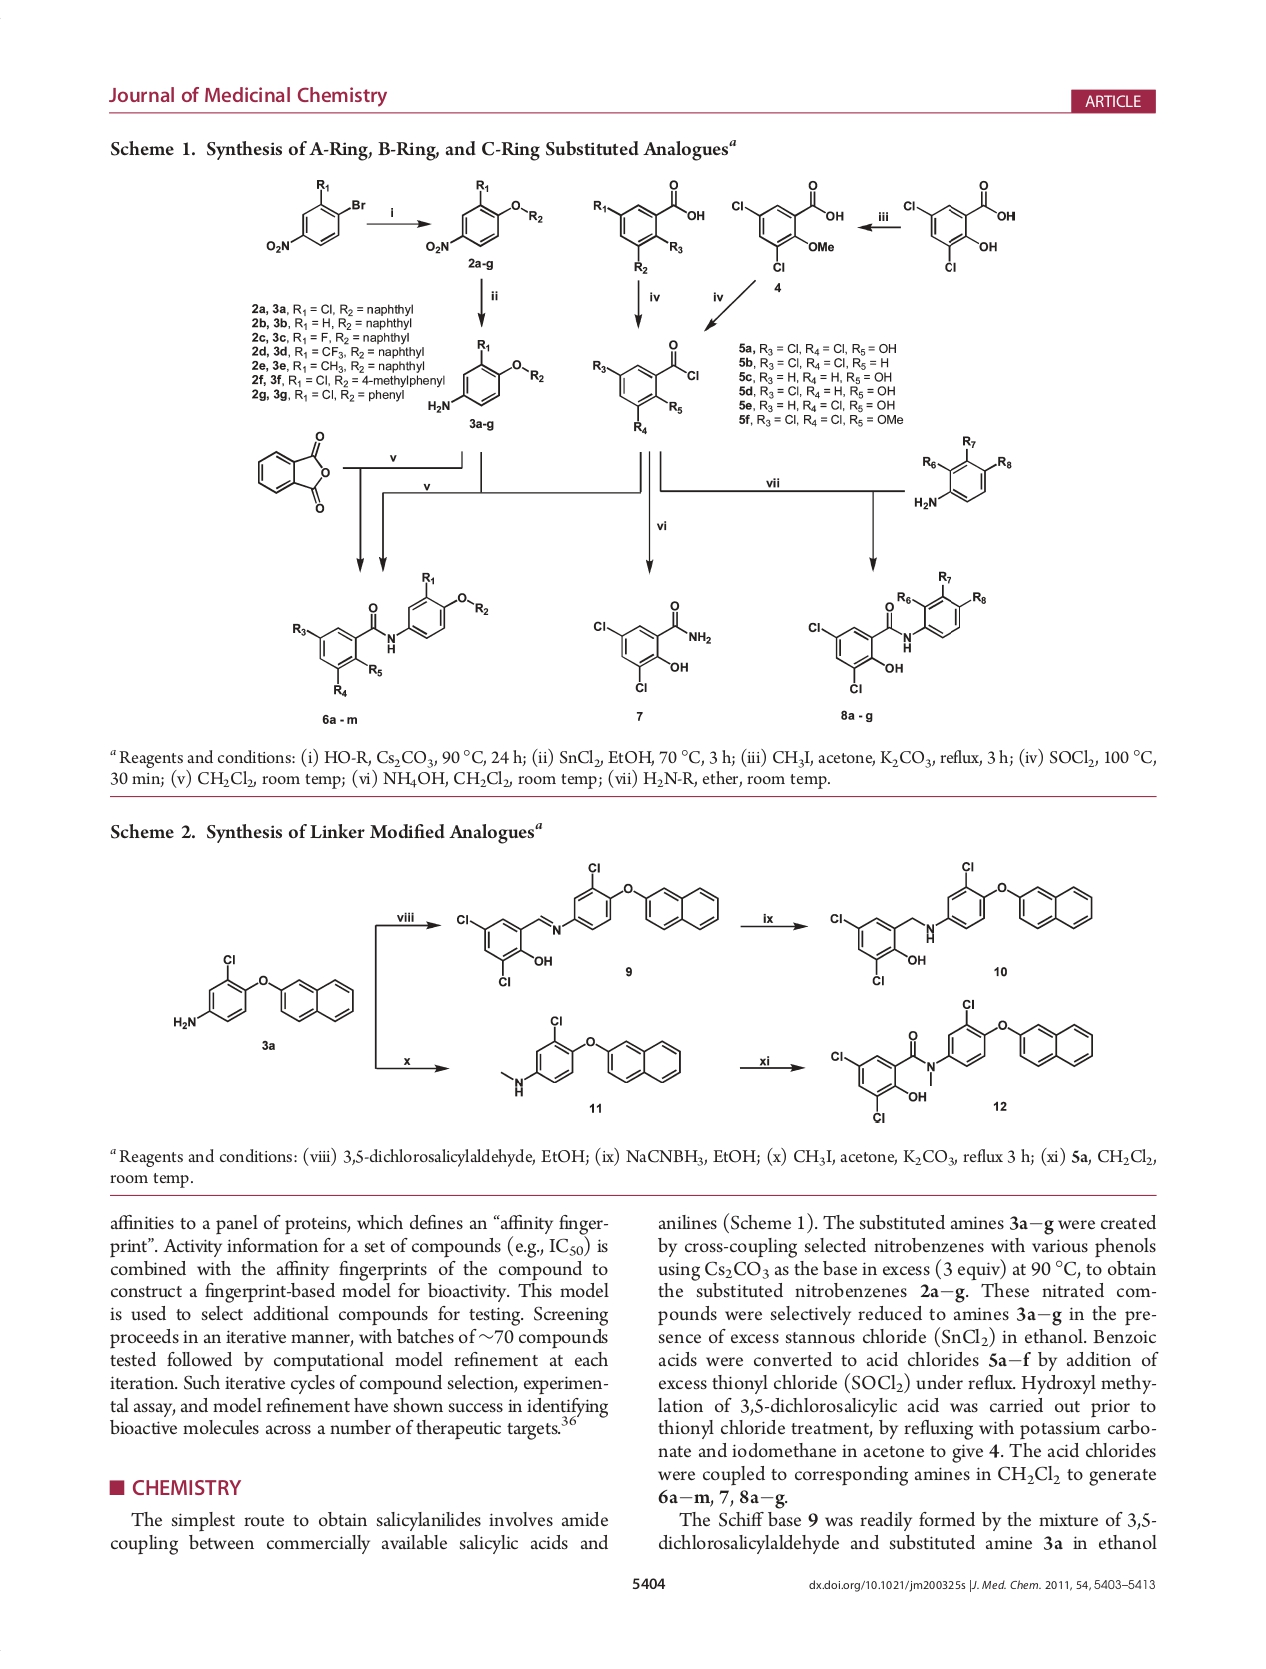exist_molecular: (828, 996, 1098, 1126), (827, 856, 1096, 985), (453, 860, 723, 988), (291, 571, 489, 697), (806, 571, 987, 696), (497, 1012, 688, 1098), (173, 952, 360, 1032), (590, 598, 711, 696), (590, 177, 707, 277), (902, 180, 1019, 274), (589, 338, 703, 434), (730, 180, 844, 274), (422, 177, 545, 253), (426, 339, 545, 414), (263, 177, 367, 255), (914, 434, 1013, 512), (254, 430, 332, 515)
